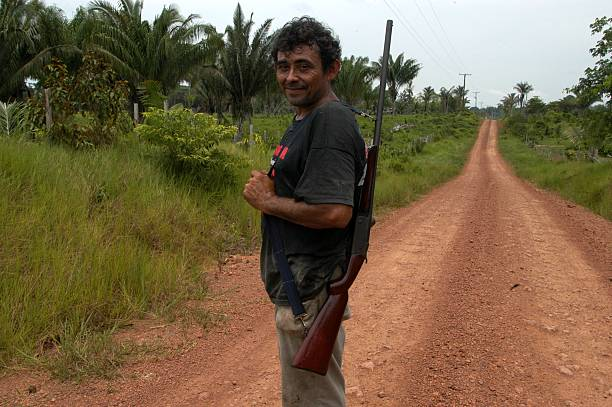shotgun: (330, 18, 399, 366)
